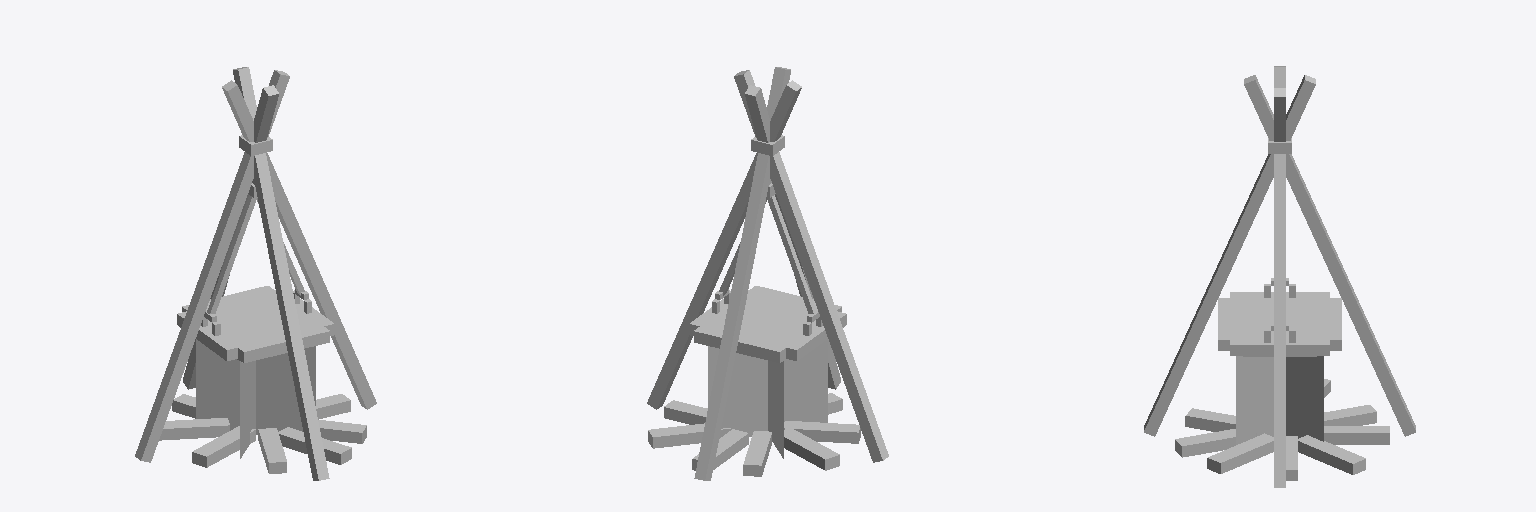
File: bonfire_lit.obj
3 views of the same model, side by side, from view 1: azimuth 30°, elevation 25°; view 2: azimuth 150°, elevation 25°; view 3: azimuth 270°, elevation 25° (orthographic).
Size of the model in its own units: 1.37 by 1.98 by 1.37.